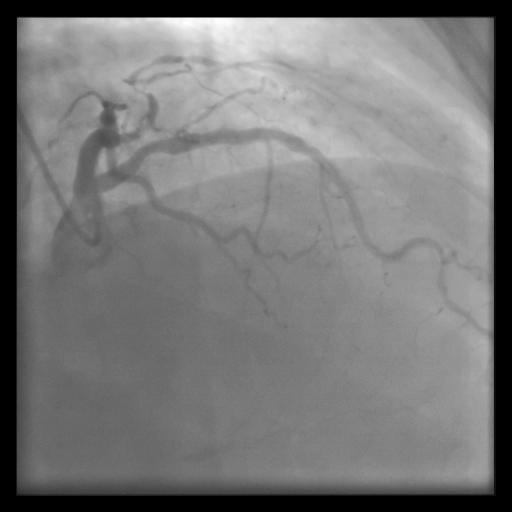Stenosis: (134, 138, 171, 161)
